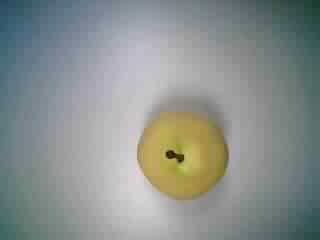pear: (126, 105, 235, 207)
